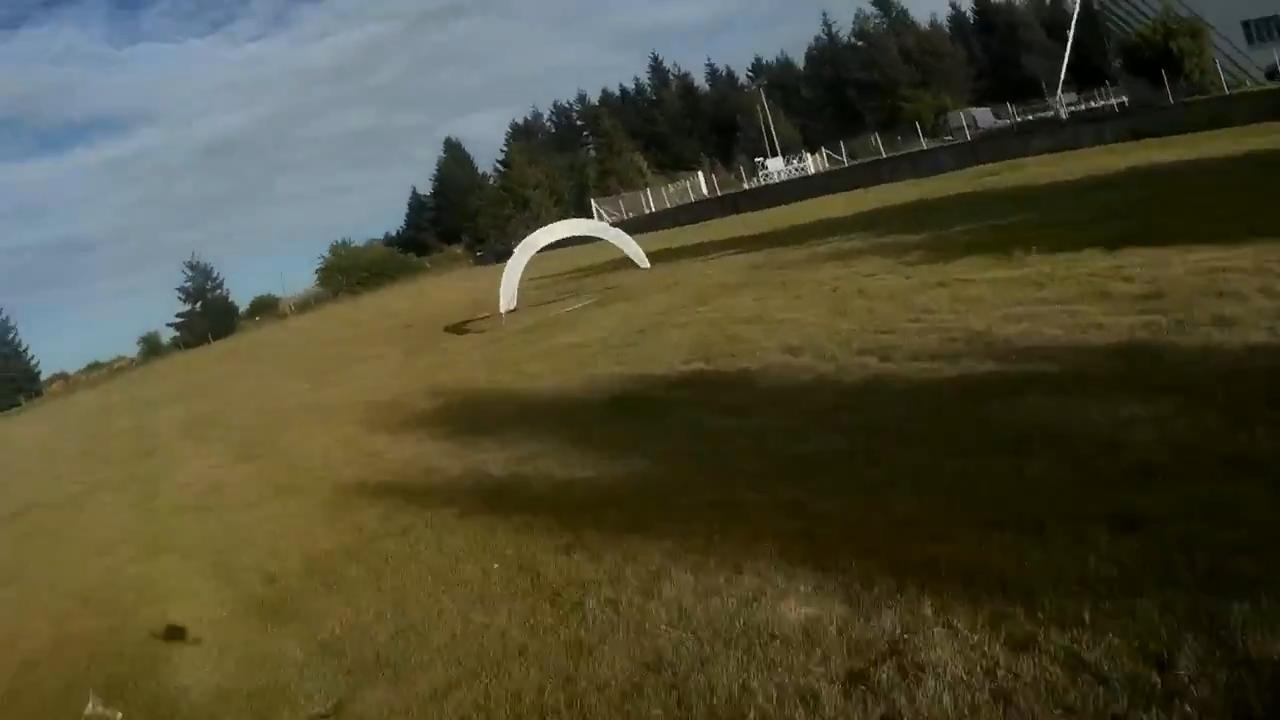gate: (498, 216, 651, 312)
